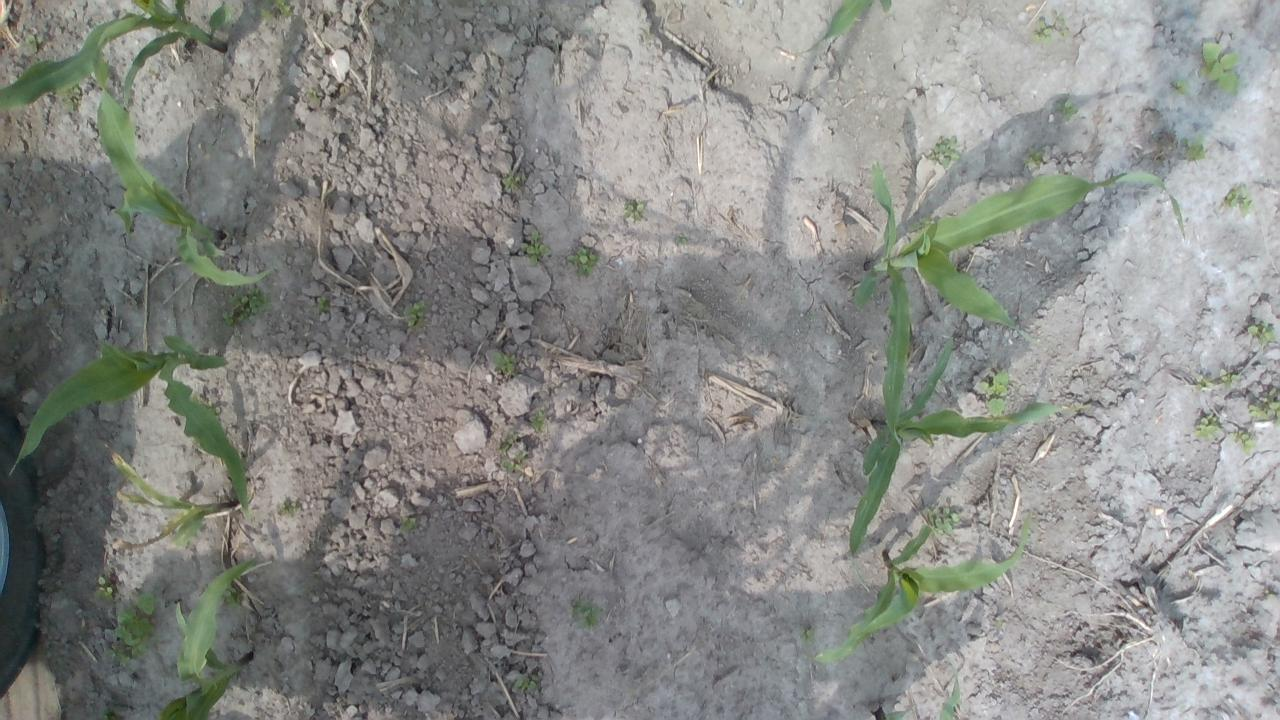Maize: (846, 265, 1068, 568), (851, 165, 1189, 339), (7, 331, 254, 527), (93, 83, 280, 286), (806, 516, 1032, 666), (0, 1, 234, 114), (158, 556, 265, 720), (104, 440, 245, 558), (868, 670, 964, 720), (800, 1, 893, 46)
Weeds: (1188, 368, 1280, 450), (107, 594, 158, 662), (1199, 42, 1242, 93), (974, 367, 1014, 418), (222, 289, 269, 329), (925, 506, 965, 532), (572, 599, 604, 628), (503, 434, 525, 474), (1033, 20, 1071, 40), (1221, 187, 1250, 211), (1248, 320, 1274, 346), (262, 4, 290, 27), (930, 142, 957, 164), (408, 300, 428, 324), (493, 352, 513, 373), (96, 576, 115, 598), (525, 238, 543, 260), (503, 173, 529, 188), (571, 248, 590, 268), (512, 675, 534, 692), (25, 35, 43, 55), (278, 503, 301, 518), (1185, 143, 1204, 160), (532, 410, 546, 432), (1024, 150, 1042, 165), (627, 204, 644, 218), (319, 294, 329, 314), (401, 518, 415, 532), (1174, 80, 1188, 94), (1062, 103, 1074, 115)
